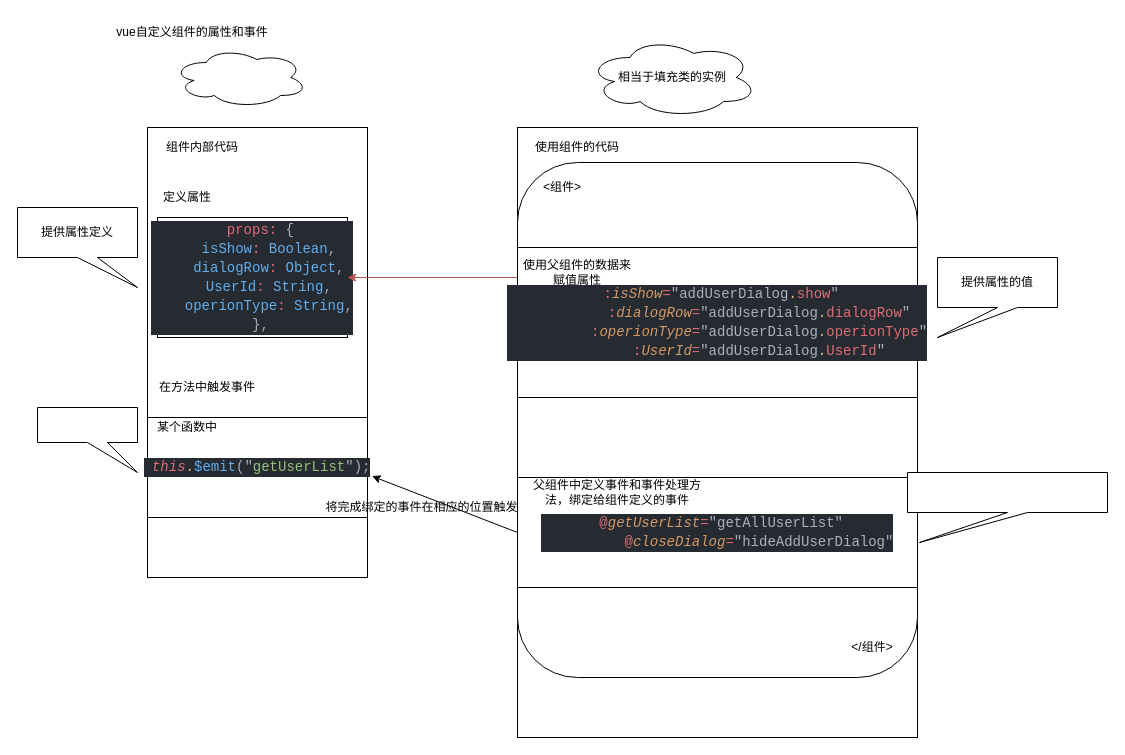
This 1125x755 diagram has some shape labels left out. Here are the shapes that lost their labels. From the top down, the centre of each, then its label:
the point at 240,77: 相当于类的模板
the point at 87,439: 提供触发器
the point at 1007,507: 提供事件和方法
